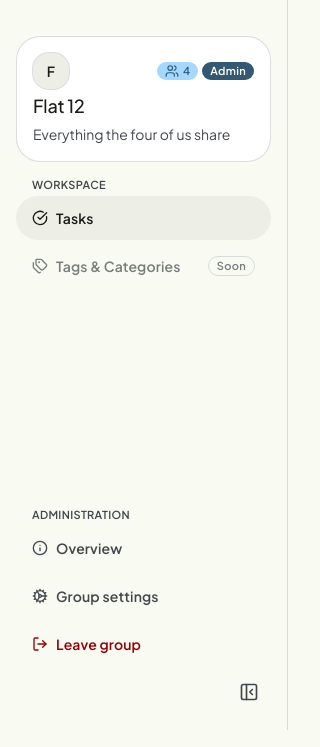
Test: GroupSidebar › offers a collapse control that then offers the way back
The image size is (320, 747).
What coordinates should you click on to do the following:
click the button named "Collapse the sidebar"
I would click on:
 (249, 692)
Its box is [227,670,271,714].
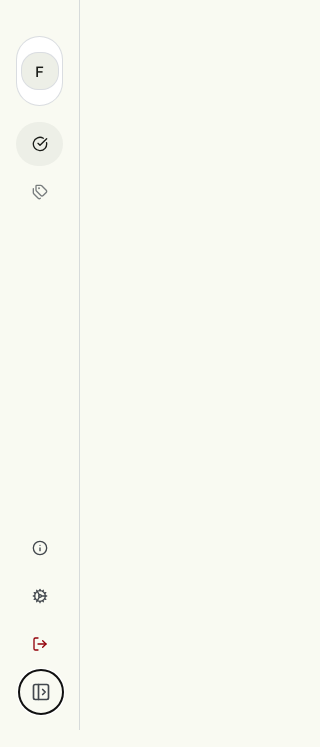
Expected: the button named "Expand the sidebar" is shown, [19,670,63,714]
